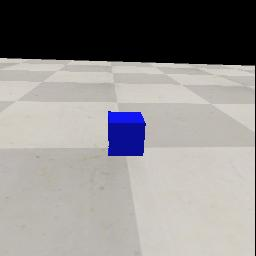box: (108, 111, 146, 156)
